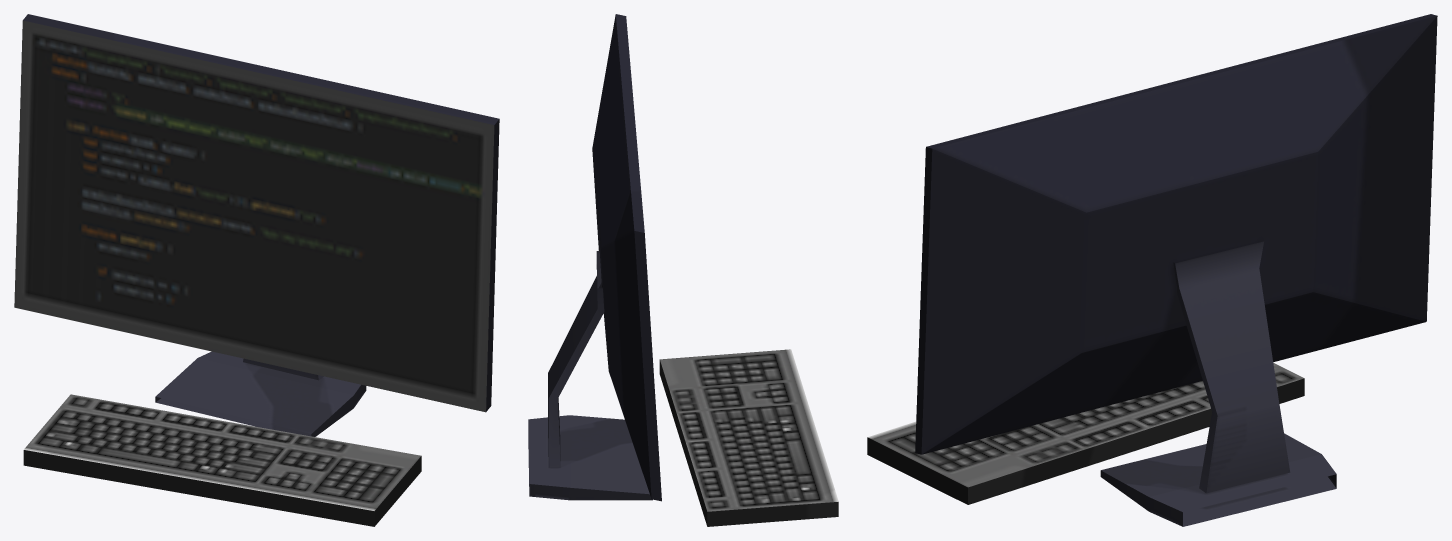
Rendered from Tx_props_computer_14.fbx.
3 views of the same model, side by side, from view 1: azimuth 30°, elevation 25°; view 2: azimuth 150°, elevation 25°; view 3: azimuth 270°, elevation 25° (orthographic). The views are drawn at different scales.
Visible parts, largest first — view 1: Tx_props_computer_8; view 2: Tx_props_computer_8; view 3: Tx_props_computer_8.
Part boxes in pixels (left/top/right/bottom): Tx_props_computer_8: left=14, top=14, right=499, bottom=526; Tx_props_computer_8: left=528, top=14, right=838, bottom=526; Tx_props_computer_8: left=867, top=14, right=1437, bottom=526.
Bounding box in the file's own units: 2.26 × 2.13 × 2.82.
